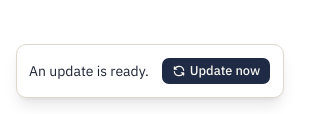
Test case: keeps unsaved work open until the existing leave guard clears
This screenshot has width=323, height=114.
Later steps or results of the test are not shown.
Click the button "Update now": (216,71) [161,57,271,85]
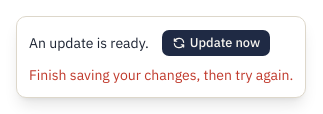
Expected: the message "Finish saving your changes, then try again." is shown, [29,65,293,85]
